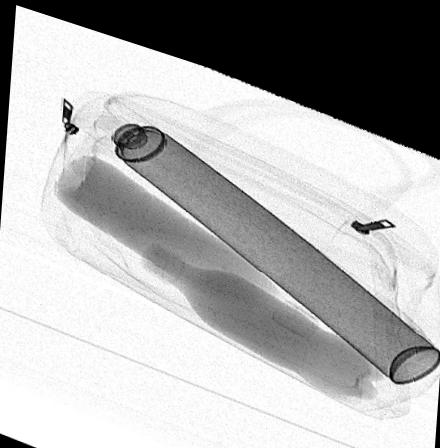Sprayer: (71, 84, 440, 359)
